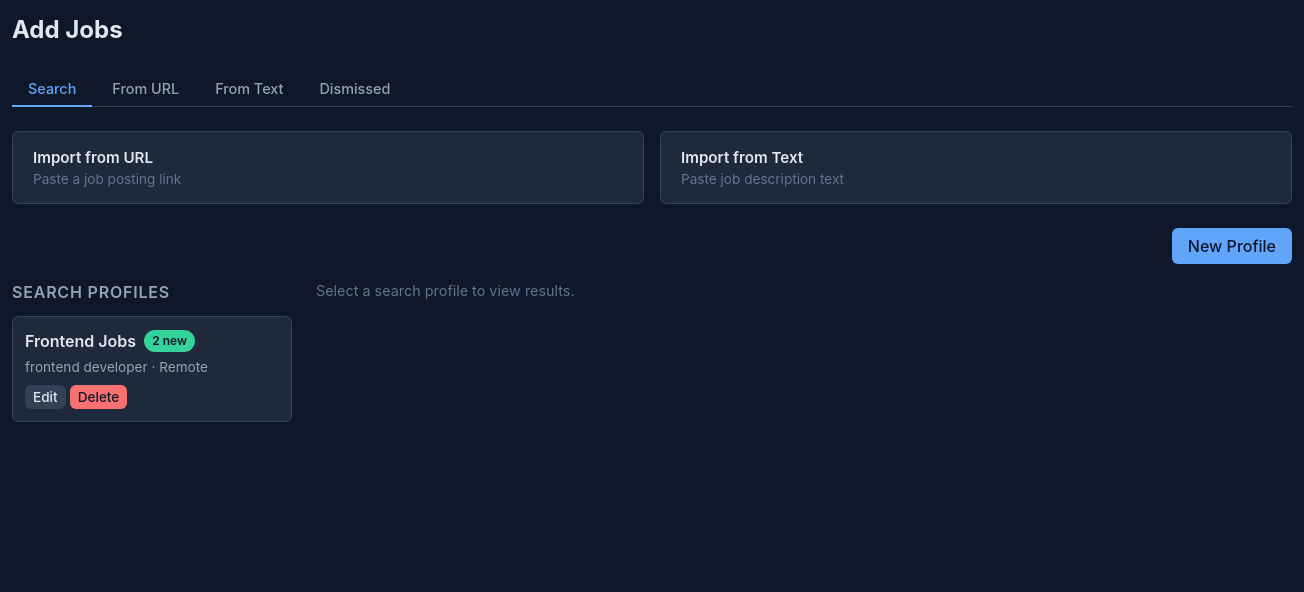
Test: Search Page — delta tracking on refresh › identifies added postings after refresh by passing addedIds to results table
Expected: the text "Frontend Jobs" is shown, [25, 331, 136, 351]
What coordinates should you click on to do the following:
click the text "Frontend Jobs"
I would click on:
 (110, 341)
Its box is [25, 330, 195, 352].
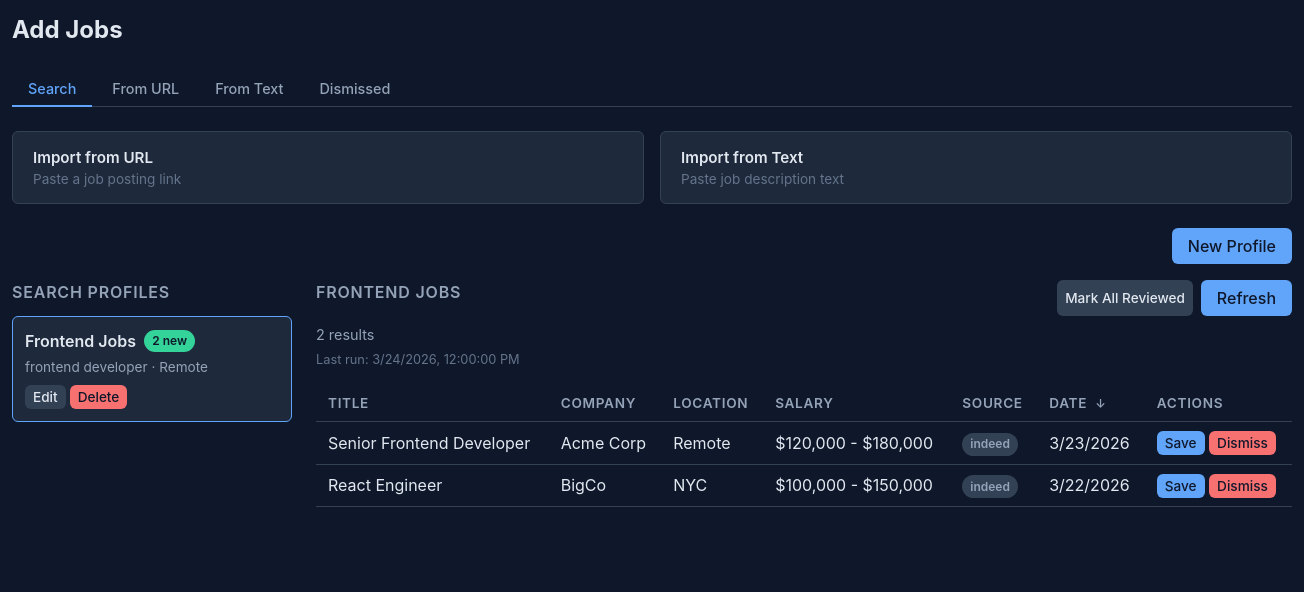
Expected: the text "Senior Frontend Developer" is shown, [316, 422, 549, 464]
What coordinates should you click on to do the following:
click the button "Refresh"
I would click on:
 (1246, 298)
Its box is [1201, 280, 1292, 316].
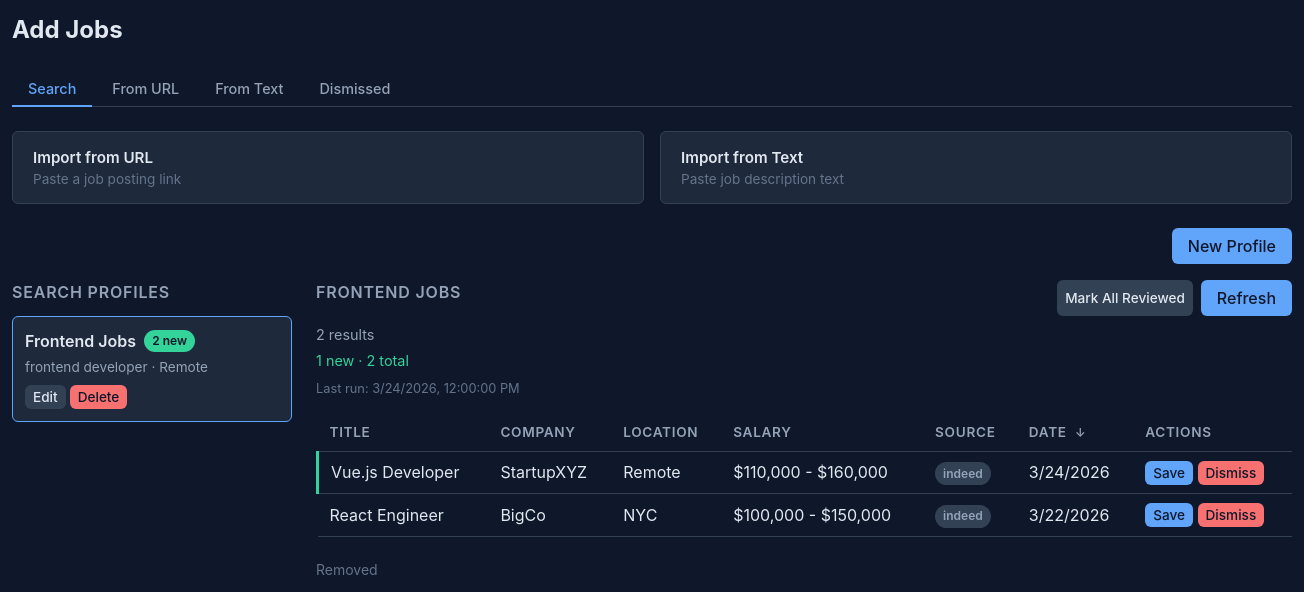
Expected: the text "Vue.js Developer" is shown, [318, 451, 488, 494]
